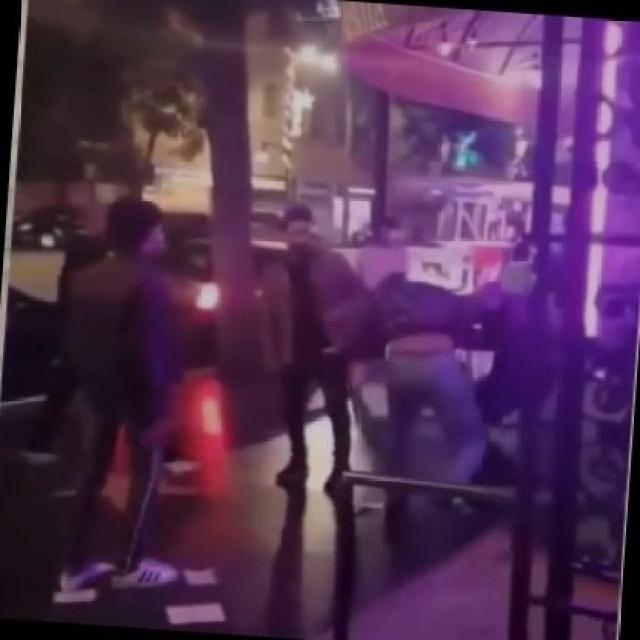non-fight: (17, 174, 238, 617), (252, 197, 366, 490)
